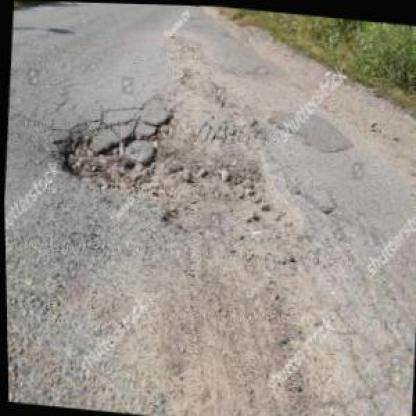pothole: (48, 95, 172, 196)
